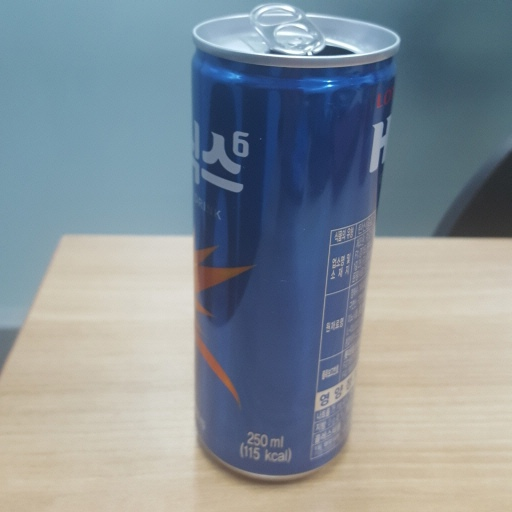Metal_0: (188, 2, 403, 482)
